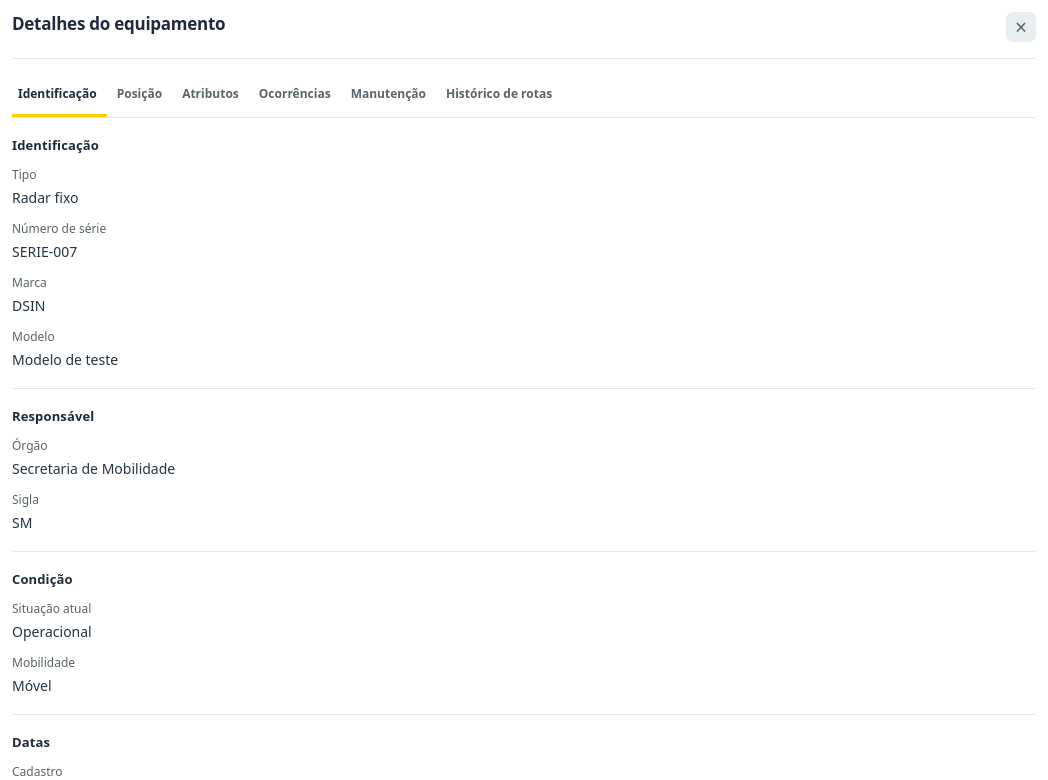
Test: renders each equipment detail tab and its loaded content
Expected: the text "SERIE-007" is shown, [12,242,77,261]
Expected: the heading "Responsável" is shown, [12,407,94,425]
Click the tab "Posição": (139, 95) [107,73,172,117]
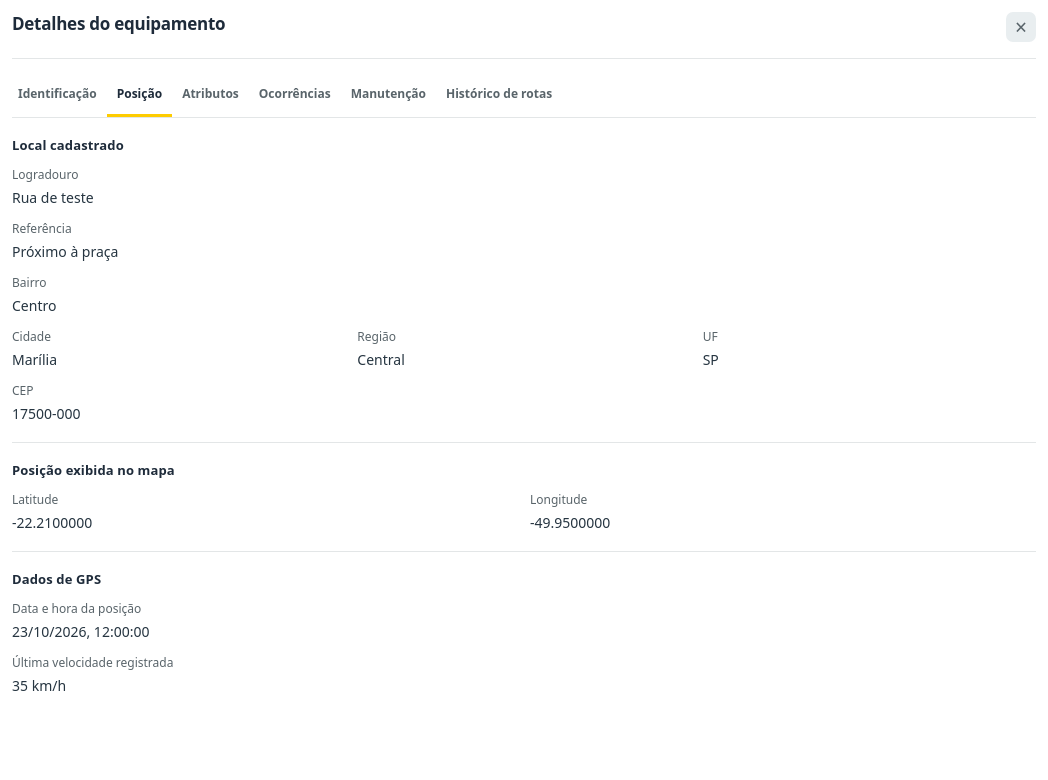
Now the heading "Local cadastrado" is shown, box [12,136,124,154]
Click the tab "Atributos": (210, 95) [172,73,249,117]
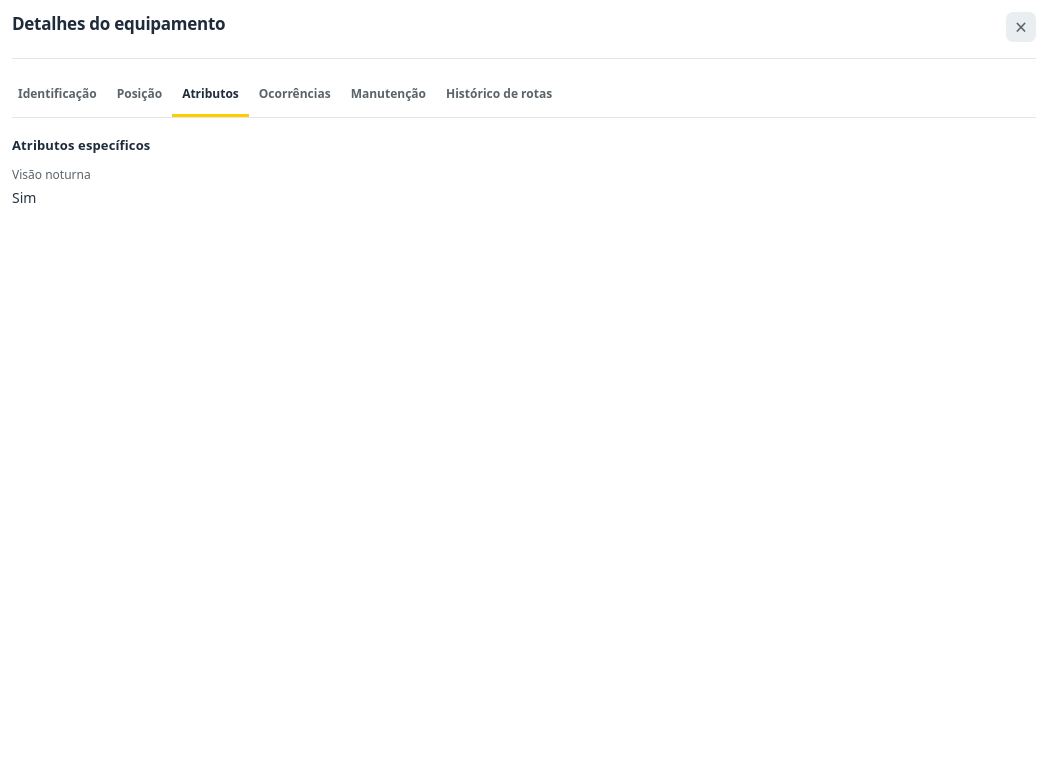
Now the text "Visão noturna" is shown, box [12,166,91,183]
Click the tab "Ocorrências": (295, 95) [249,73,341,117]
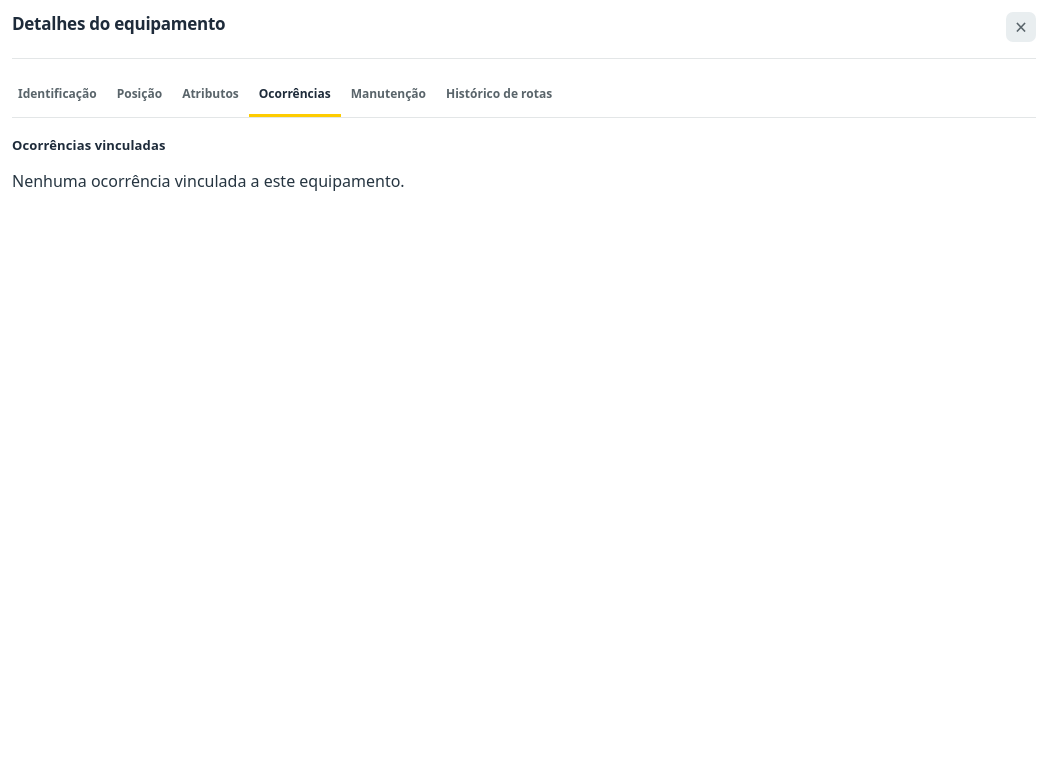
Now the text "Nenhuma ocorrência vinculada a este equipamento." is shown, box [12,170,405,192]
Click the tab "Manutenção": (388, 95) [341,73,436,117]
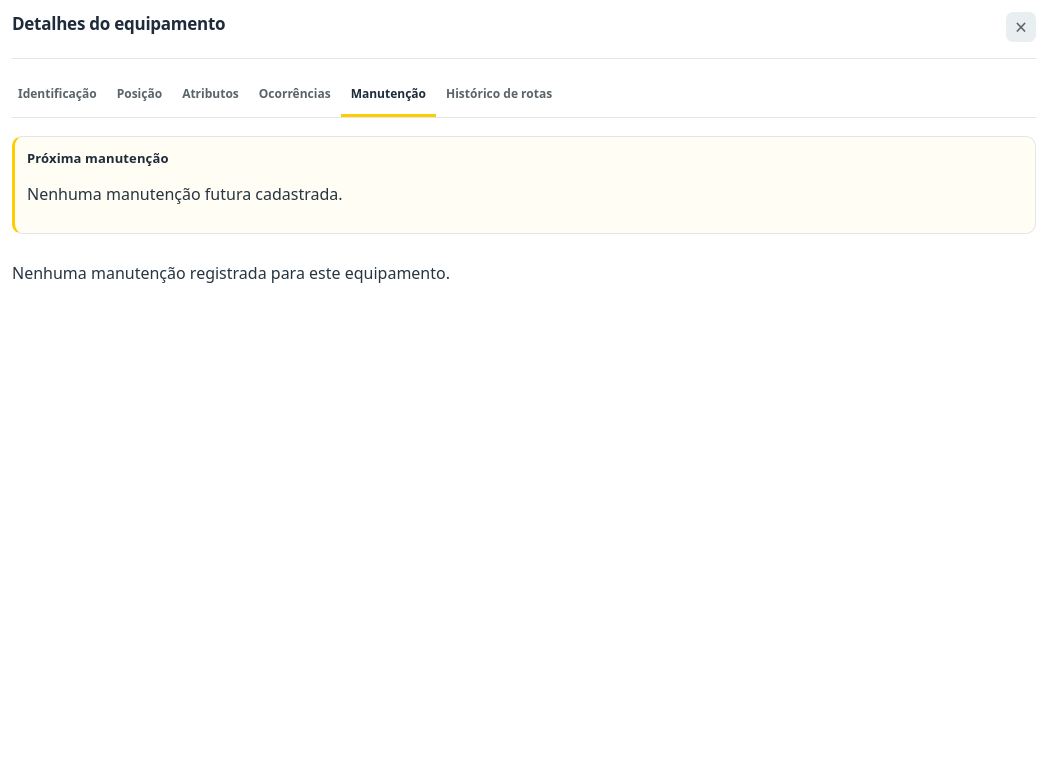
Now the text "Nenhuma manutenção registrada para este equipamento." is shown, box [12,262,450,284]
Click the tab "Histórico de rotas": (499, 95) [436,73,562,117]
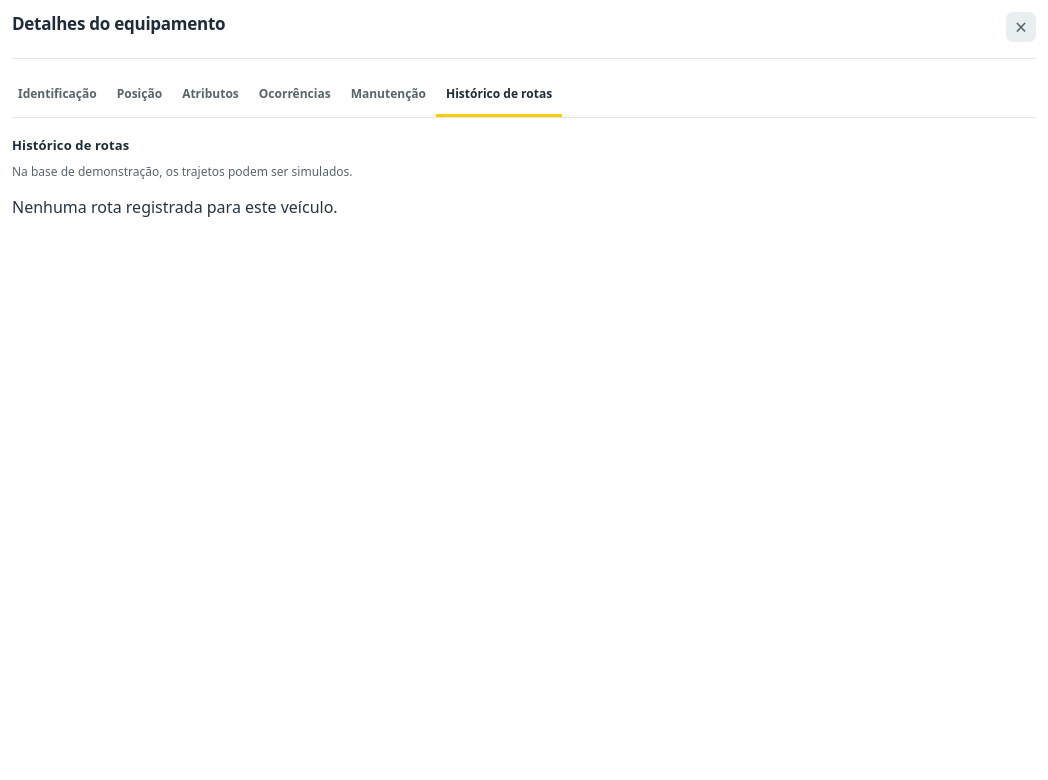
Now the text "Nenhuma rota registrada para este veículo." is shown, box [12,196,338,218]
